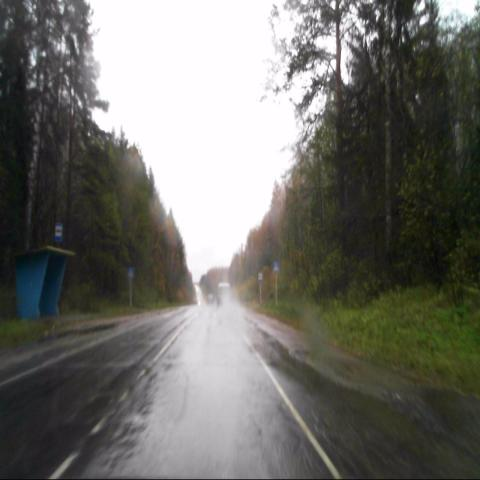5_16: (54, 222, 63, 244)
5_19_1: (126, 265, 133, 278), (273, 261, 280, 273)
